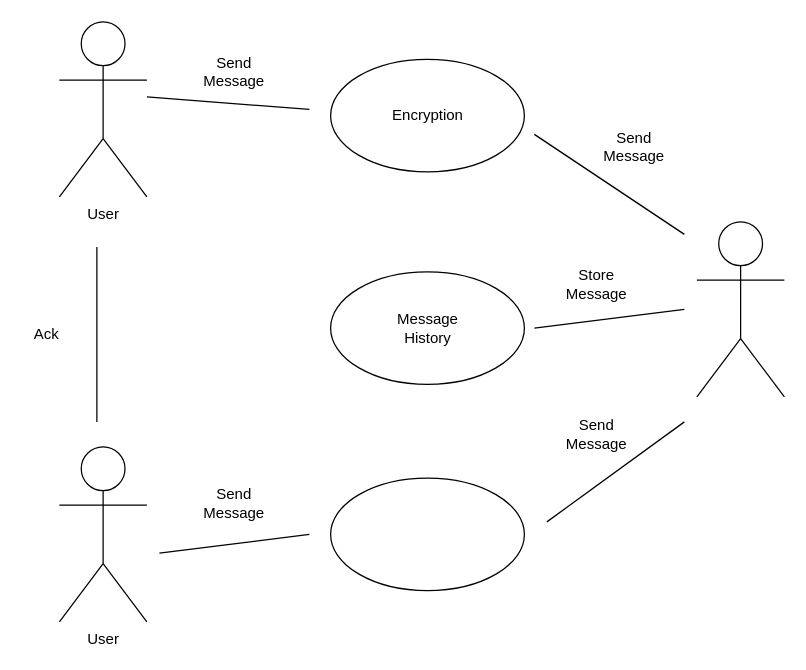
Some shapes in this 806 by 670 pixel diagram are drawn without their labels. The shapes that lost their labels are listed below. From the top down, each one's box as (x1, y1, x2, y2) in pixels, then its label:
(696, 221, 784, 397): Server
(329, 477, 524, 591): Decryption
